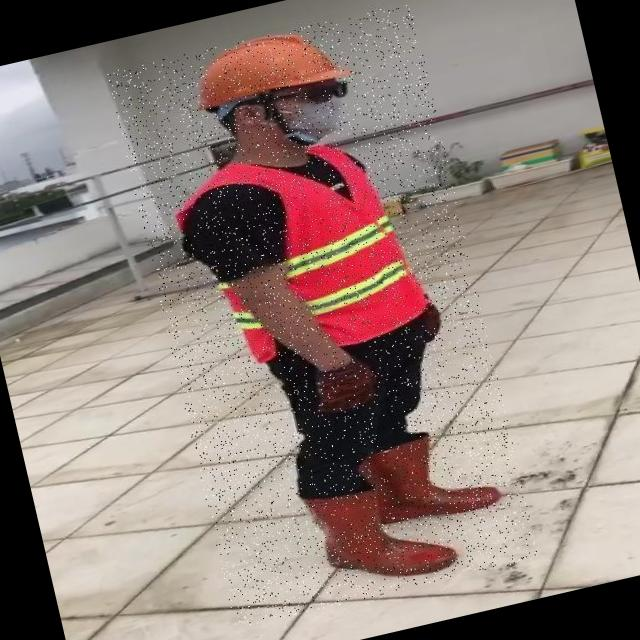hard_hat: (182, 21, 344, 111)
safety_vest: (164, 126, 432, 375)
vehicle: (107, 1, 539, 628)
work_boots: (302, 466, 458, 596), (360, 424, 501, 533)
